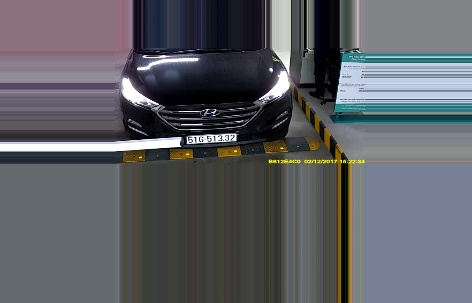plate: (184, 131, 237, 145)
